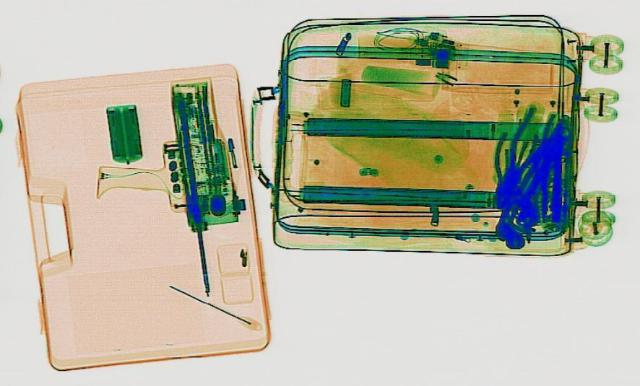Pliers: (490, 105, 558, 186), (479, 129, 539, 207)
